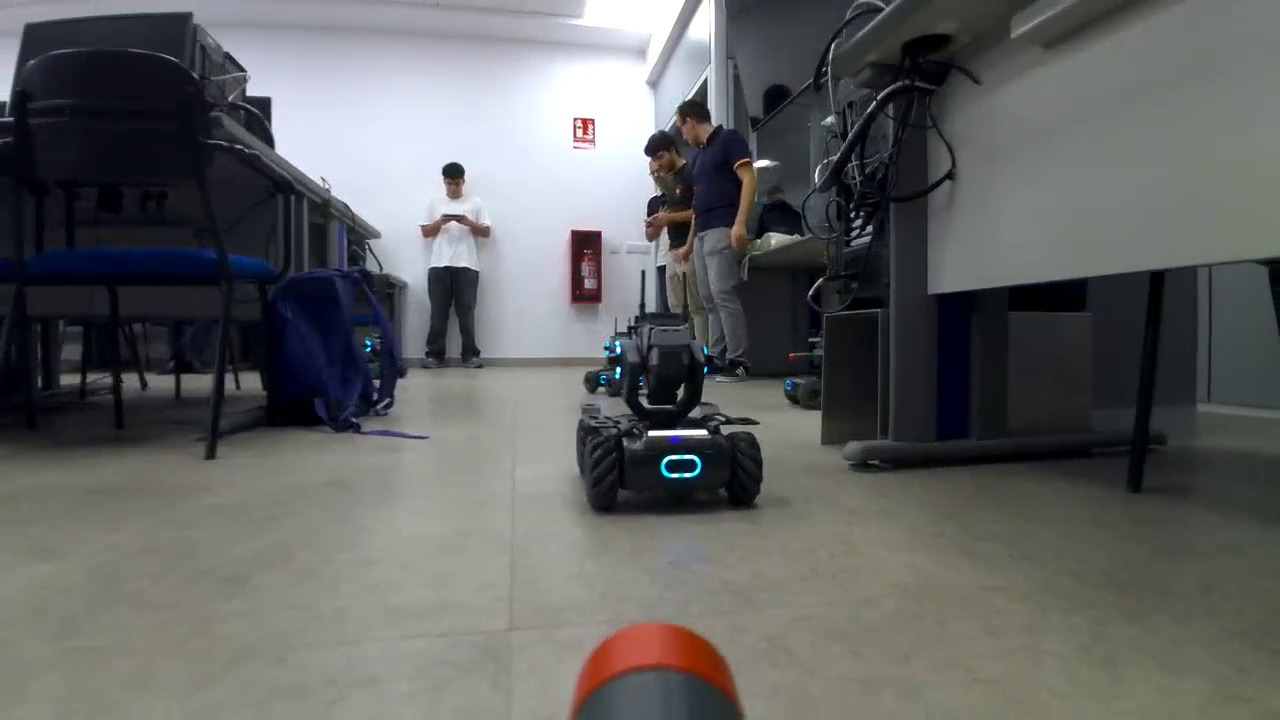robot: (572, 307, 769, 517), (579, 326, 655, 395), (770, 335, 827, 414), (357, 333, 378, 359)
